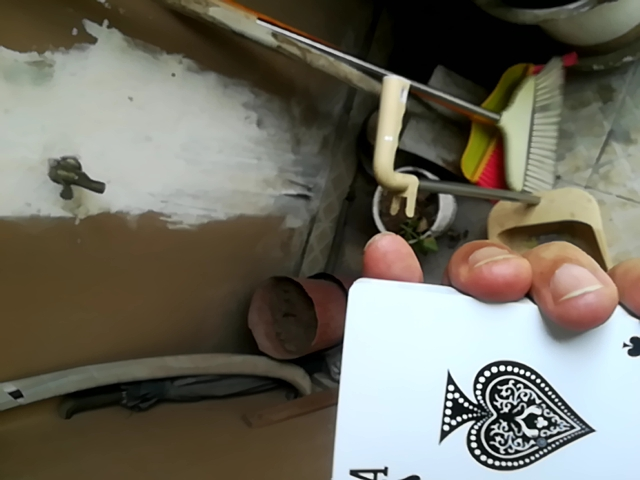ht a: (321, 274, 636, 480)
